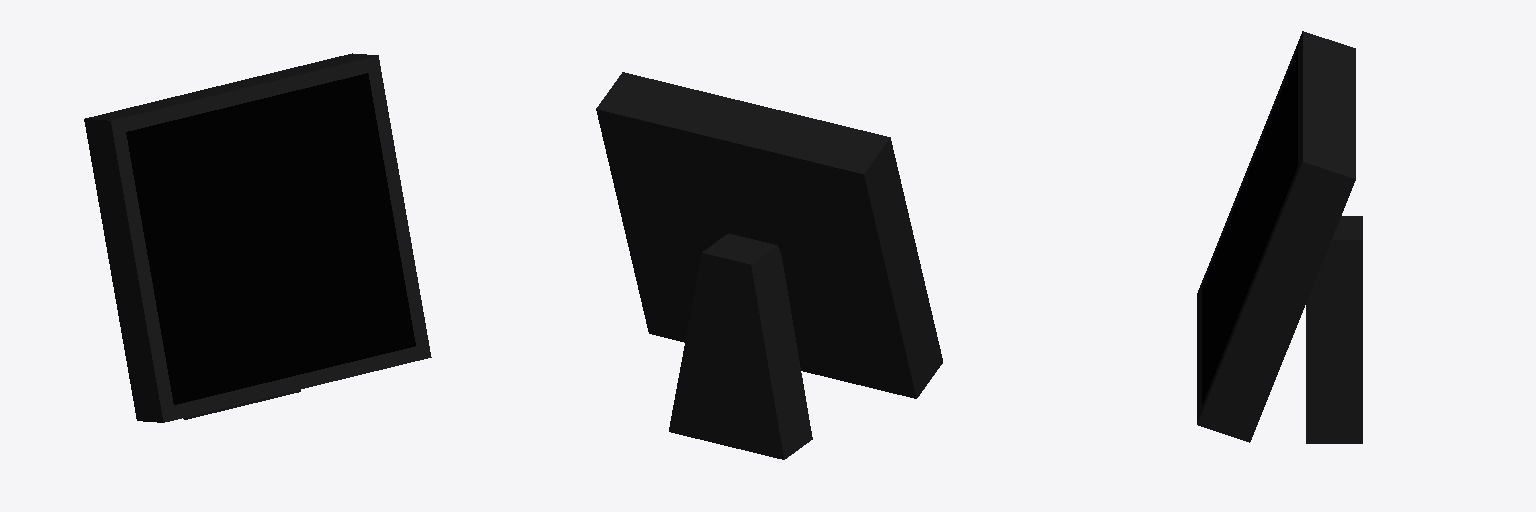
The model's file is monitor.obj.
3 views of the same model, side by side, from view 1: azimuth 30°, elevation 25°; view 2: azimuth 150°, elevation 25°; view 3: azimuth 270°, elevation 25° (orthographic).
Parts seen in each view (by area): view 1: Screen1_Cylinder.001; view 2: Screen1_Cylinder.001; view 3: Screen1_Cylinder.001.
Part boxes in pixels (x1,y1,x2,y2): Screen1_Cylinder.001: (84, 53, 431, 422); Screen1_Cylinder.001: (596, 72, 942, 459); Screen1_Cylinder.001: (1197, 31, 1362, 443).
Bounding box in the file's own units: 7.63 × 8.69 × 4.1.